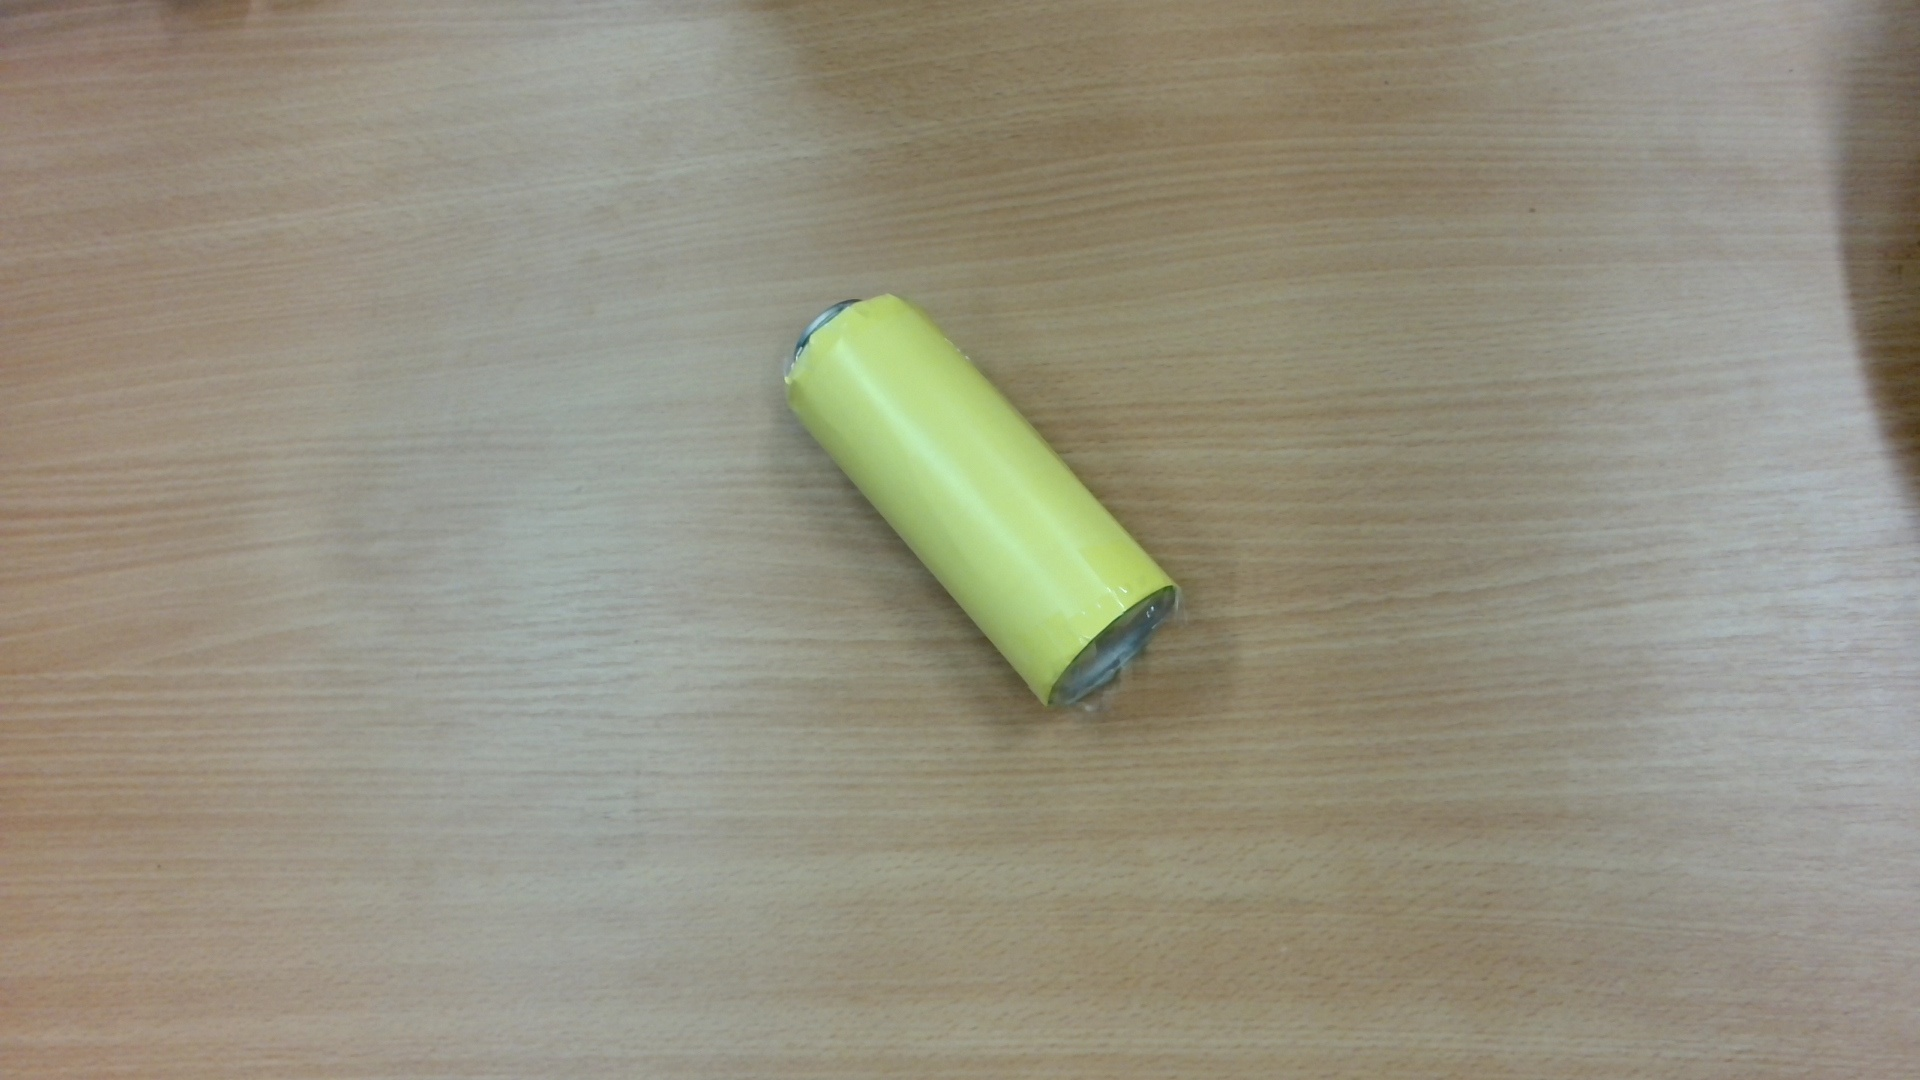Cylinder: (775, 276, 1212, 736)
